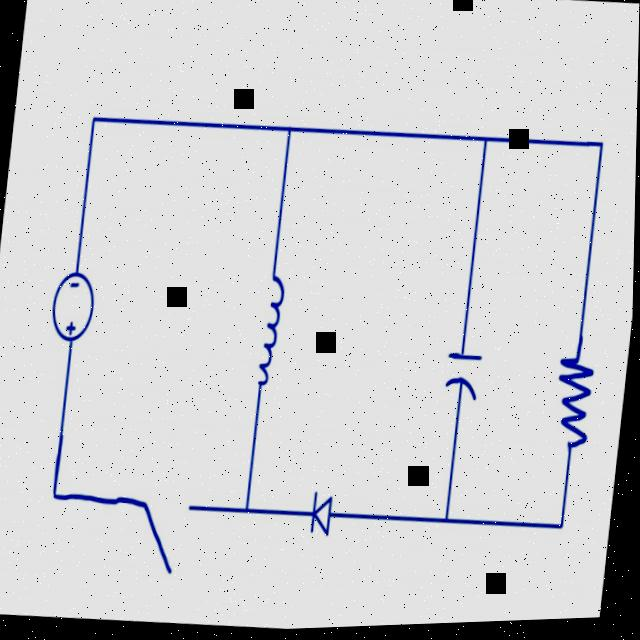capacitor: (437, 337, 501, 420)
diode: (298, 482, 351, 552)
inductor: (235, 257, 302, 427)
resistor: (537, 329, 613, 482)
source: (47, 254, 107, 357)
switch: (103, 463, 220, 598)
